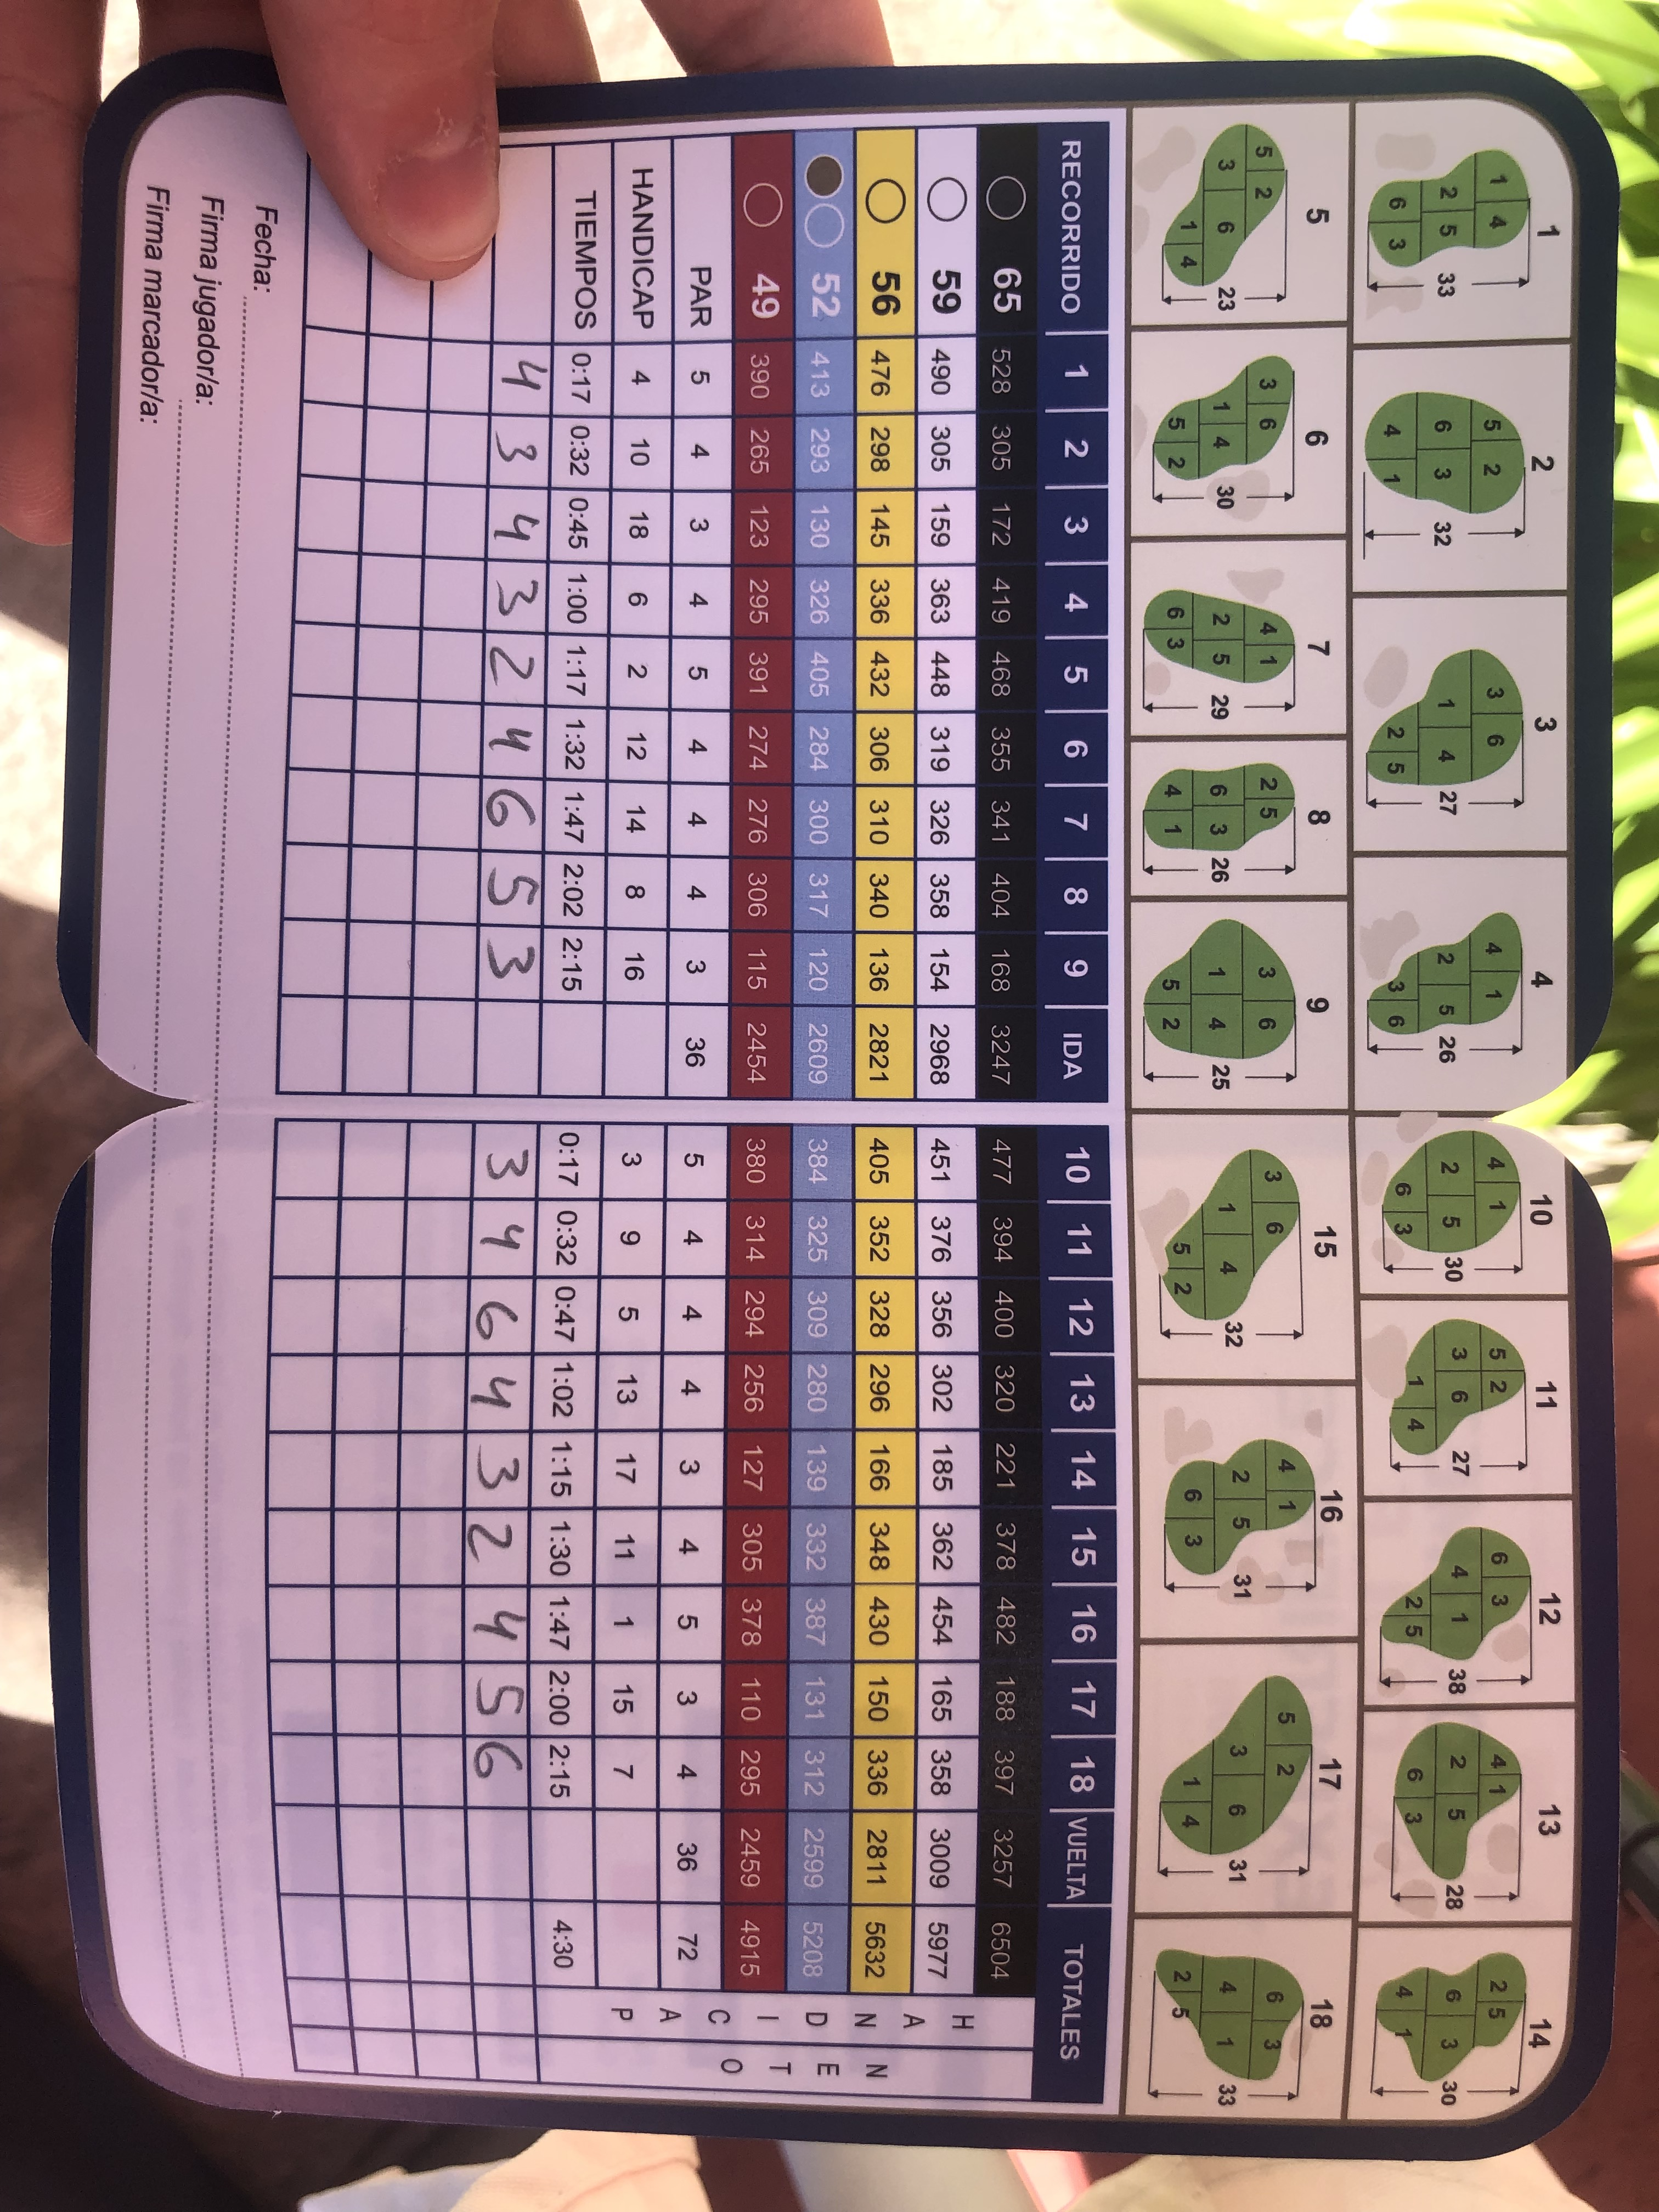par: (667, 254, 721, 1986)
score: (469, 338, 547, 1799)
